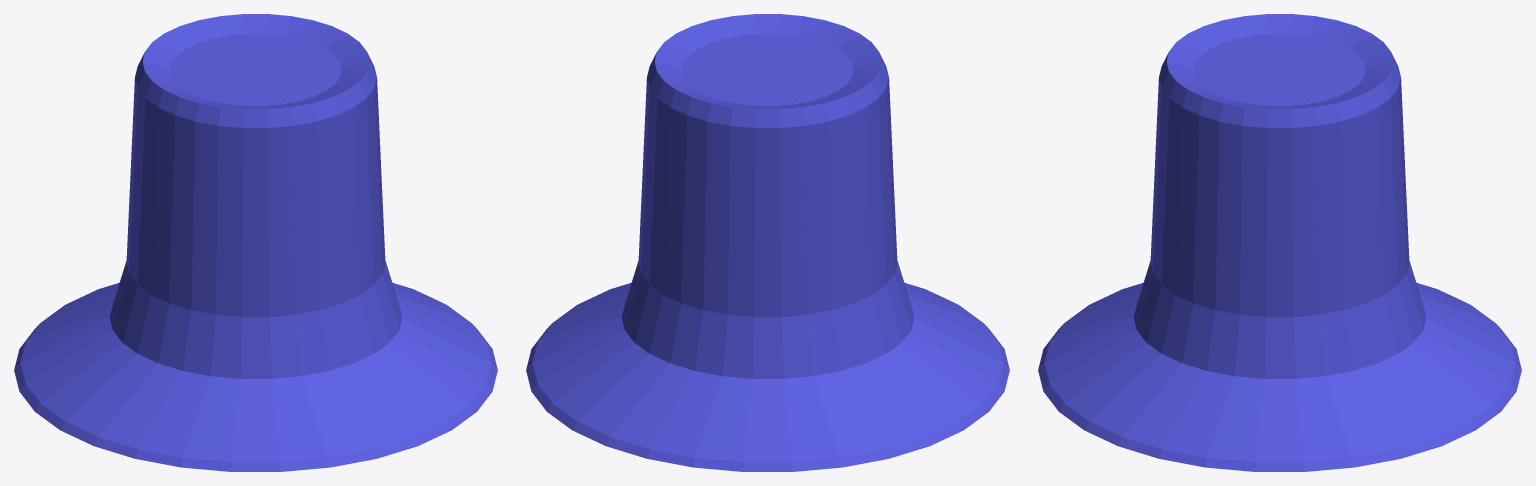
Rendered from Blue Hat.fbx.
3 views of the same model, side by side, from view 1: azimuth 30°, elevation 25°; view 2: azimuth 150°, elevation 25°; view 3: azimuth 270°, elevation 25° (orthographic).
Parts seen in each view (by area): view 1: Cube; view 2: Cube; view 3: Cube.
Part boxes in pixels (left/top/right/bottom): Cube: left=14, top=14, right=497, bottom=471; Cube: left=526, top=14, right=1009, bottom=471; Cube: left=1038, top=14, right=1521, bottom=471.
Bounding box in the file's own units: 295 × 210 × 296.
